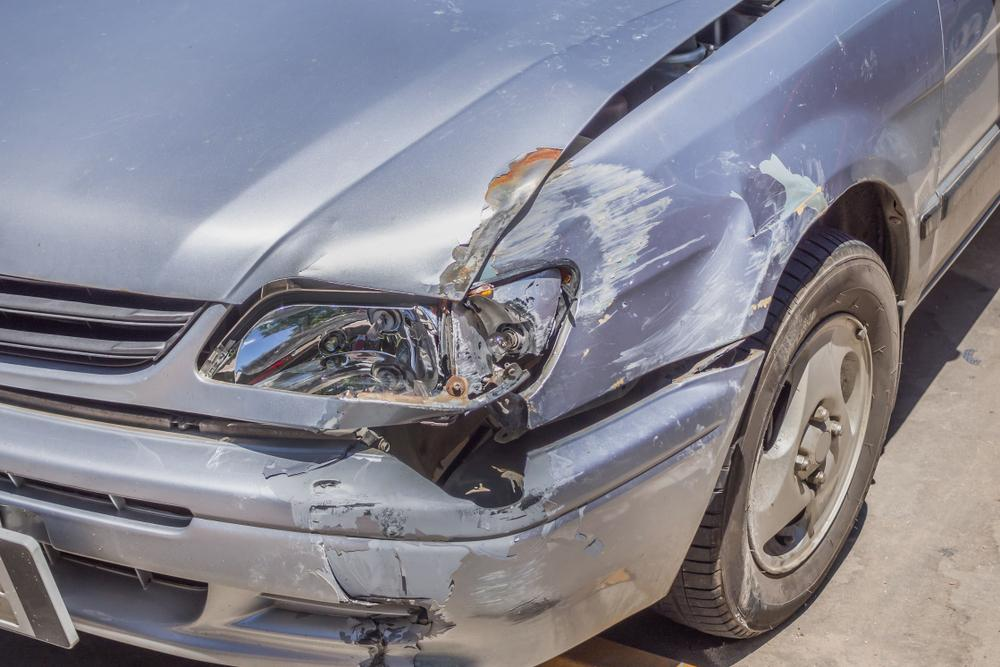crack: (324, 547, 435, 667)
dent: (557, 184, 756, 370), (396, 146, 560, 290)
lamp broken: (208, 265, 586, 403)
scratch: (259, 453, 573, 628), (474, 161, 652, 287), (748, 157, 833, 305)
